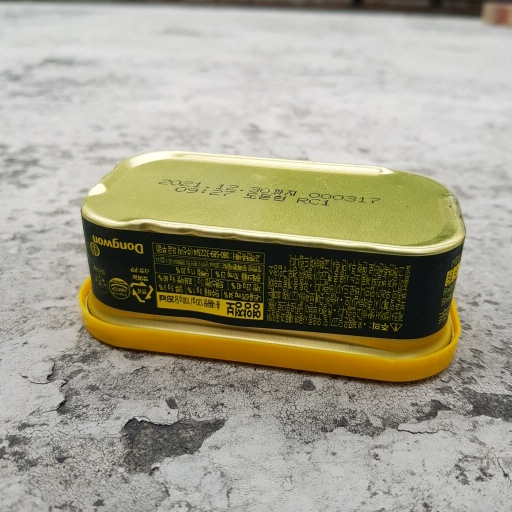Metal_2: (72, 144, 469, 384)
